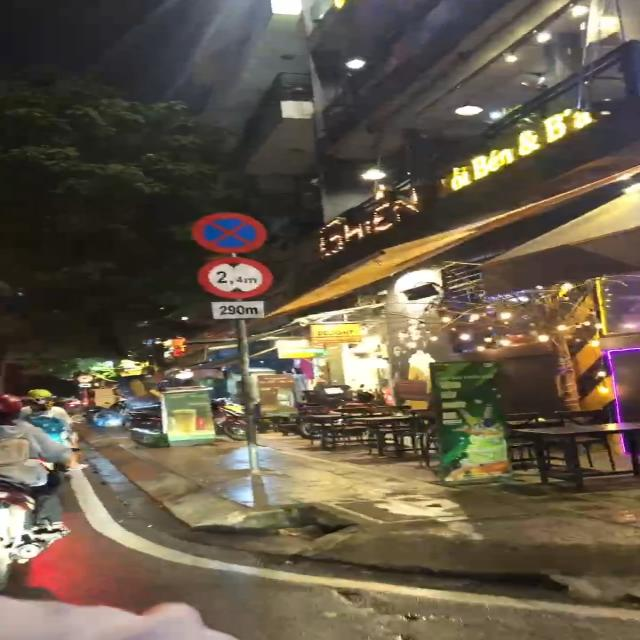Bien bao cam dung xe va do xe: (185, 209, 274, 255)
Bien bao han che chieu cao: (193, 253, 273, 299)
